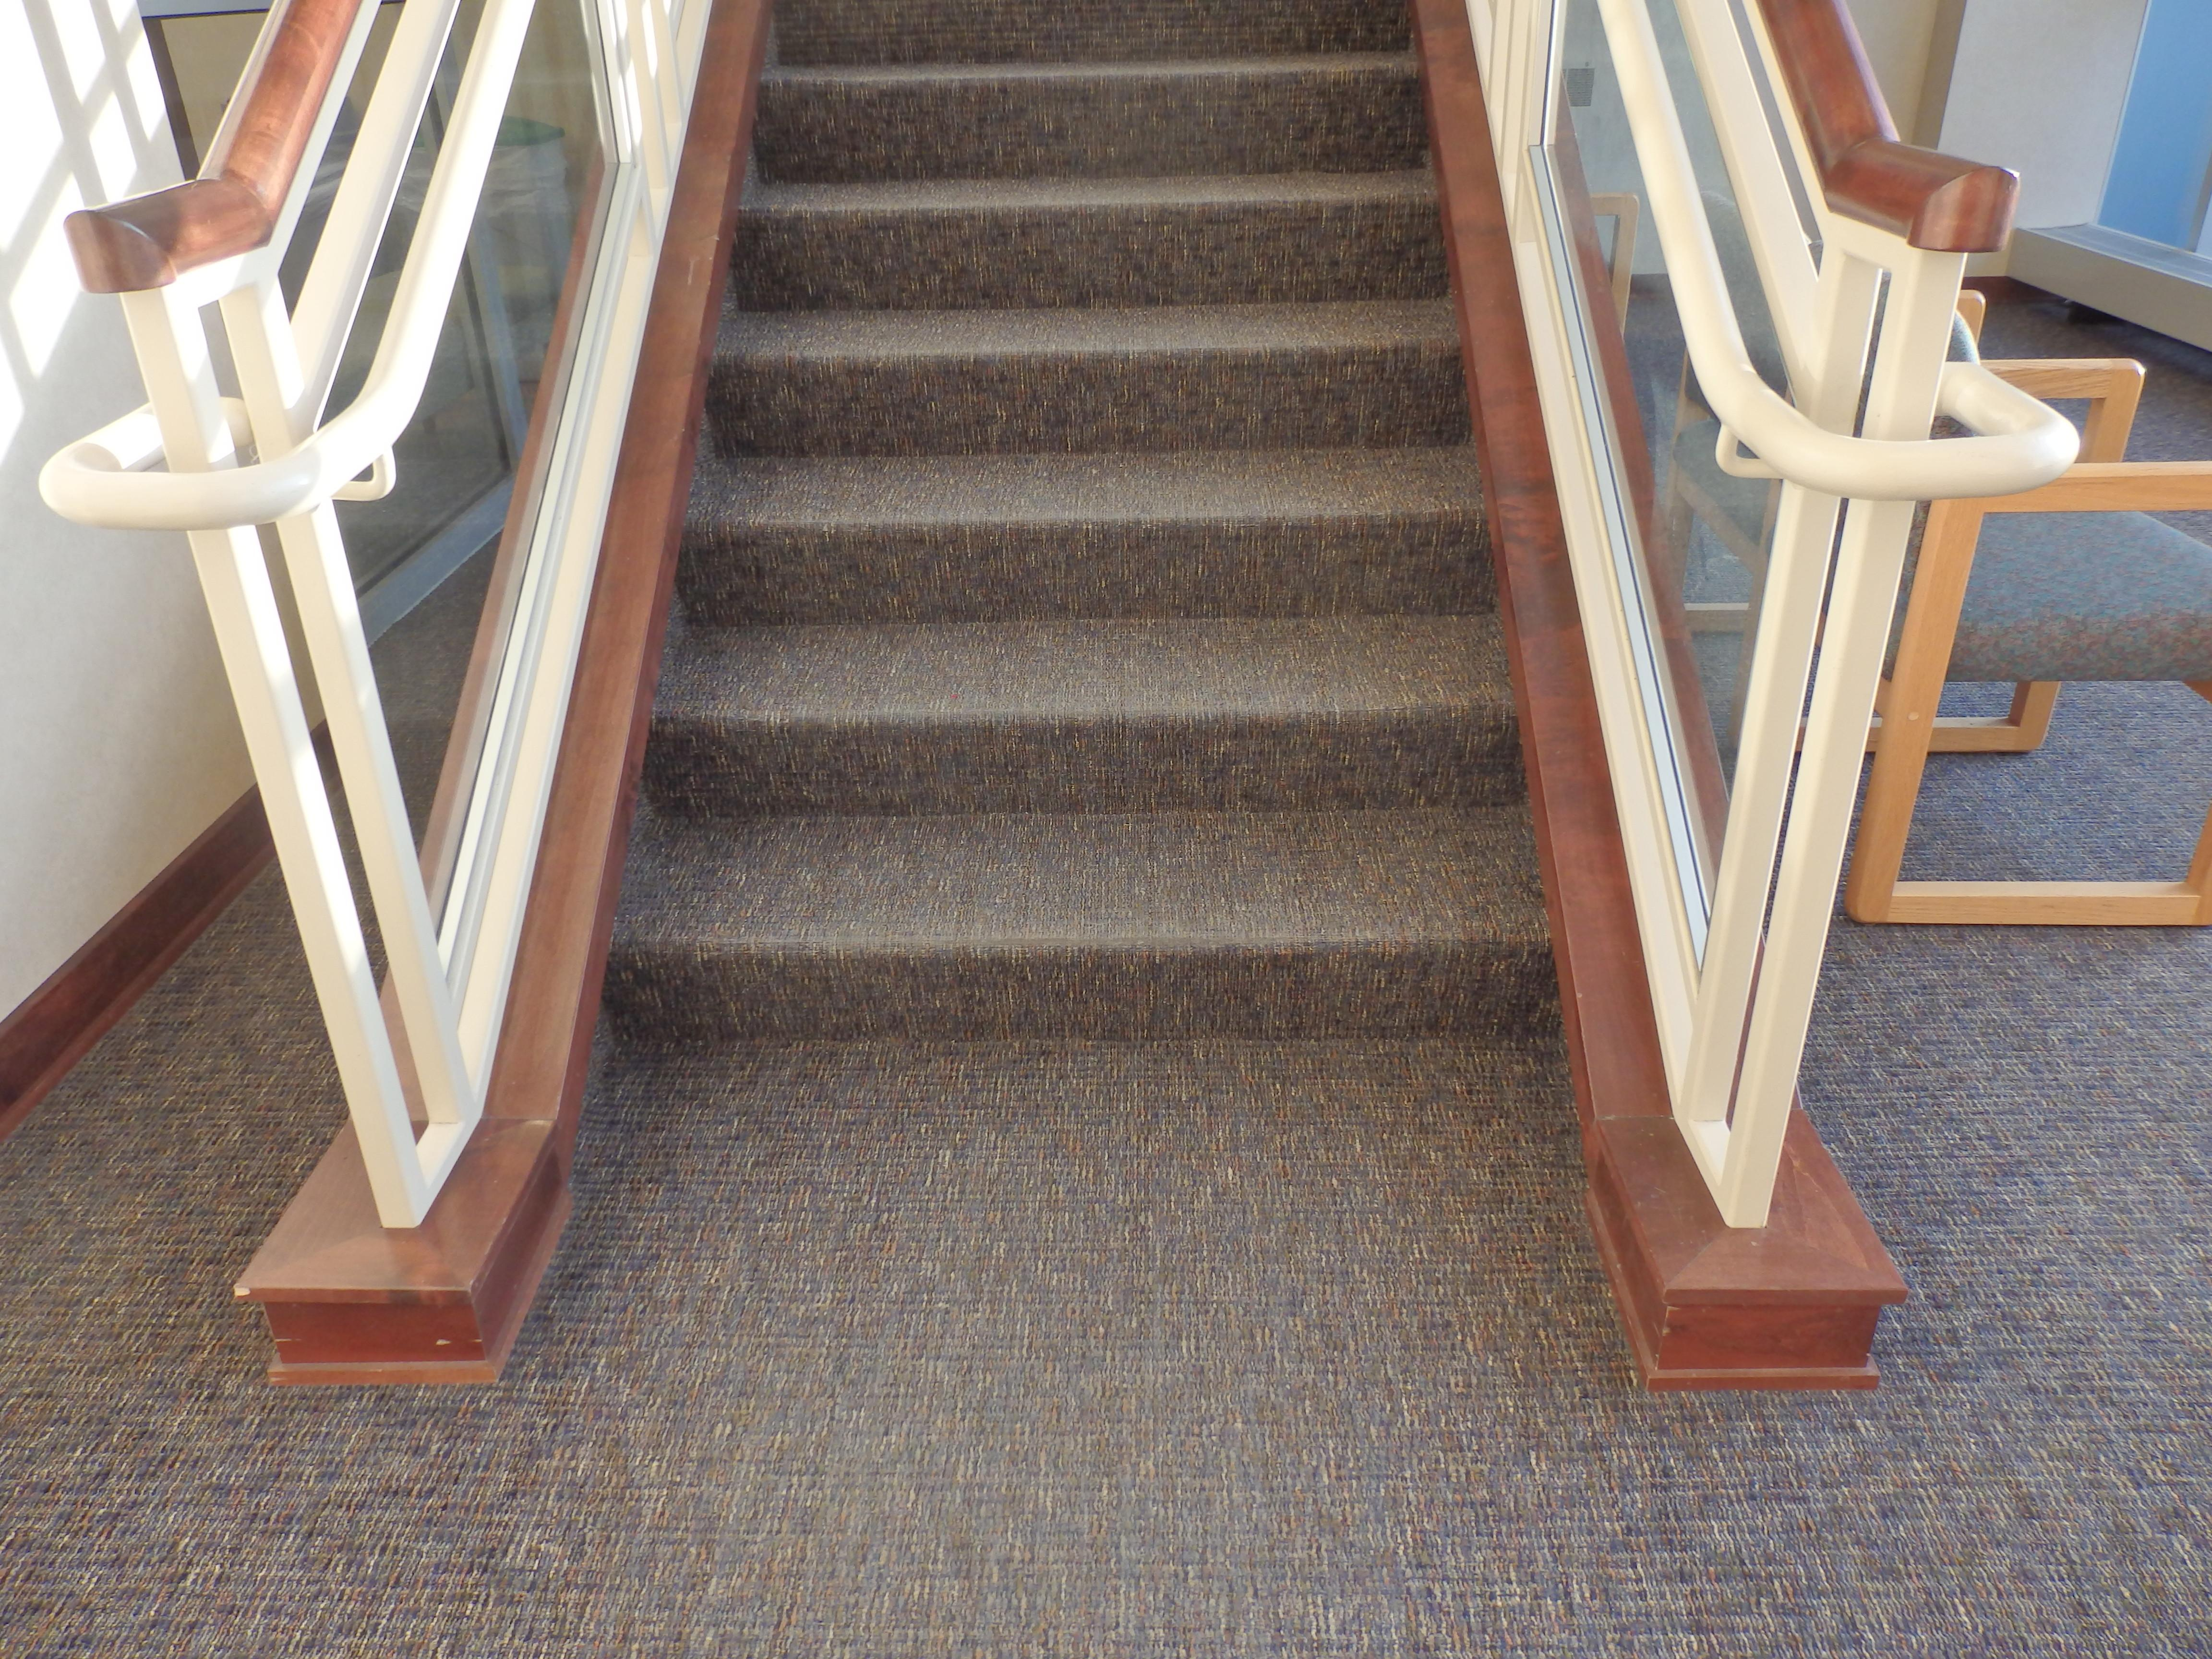stairs_up: (644, 30, 1557, 1061)
